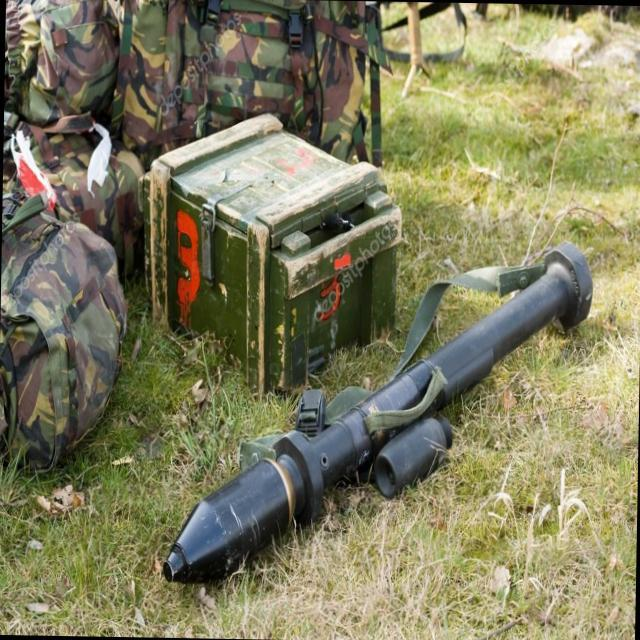rocket: (162, 241, 594, 600)
